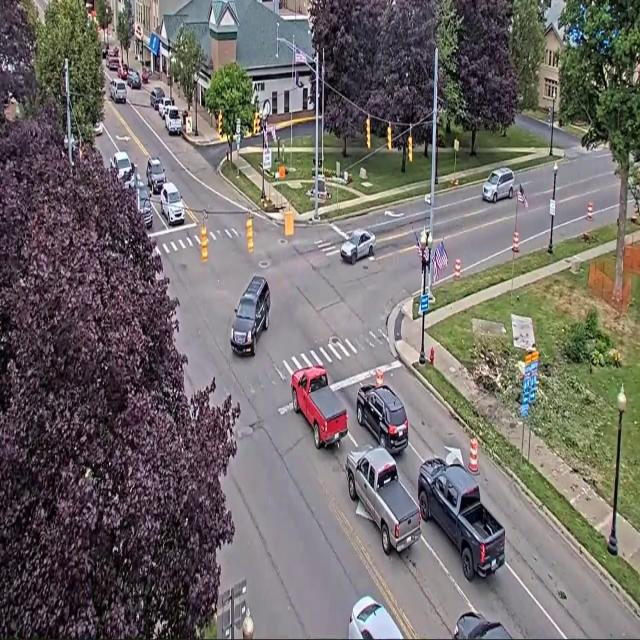car: (356, 384, 408, 454), (231, 276, 270, 355), (348, 596, 402, 639), (453, 612, 511, 639), (341, 229, 375, 263), (483, 168, 514, 203), (161, 183, 184, 225), (138, 179, 152, 229), (146, 158, 165, 193), (110, 152, 132, 179), (165, 107, 182, 135), (124, 164, 142, 188), (149, 86, 165, 110), (110, 80, 126, 103), (158, 96, 174, 119), (127, 71, 141, 88), (107, 54, 119, 71), (118, 63, 128, 80), (141, 68, 150, 84), (95, 122, 103, 135), (102, 42, 108, 59), (109, 47, 119, 57), (72, 135, 77, 151)
traffic signal: (200, 225, 207, 262), (246, 216, 253, 253), (366, 116, 371, 150), (253, 112, 260, 135), (548, 106, 554, 127), (387, 124, 391, 151), (408, 136, 412, 162), (218, 111, 222, 136)
truck: (418, 458, 505, 581), (345, 446, 421, 555), (291, 367, 347, 448)
